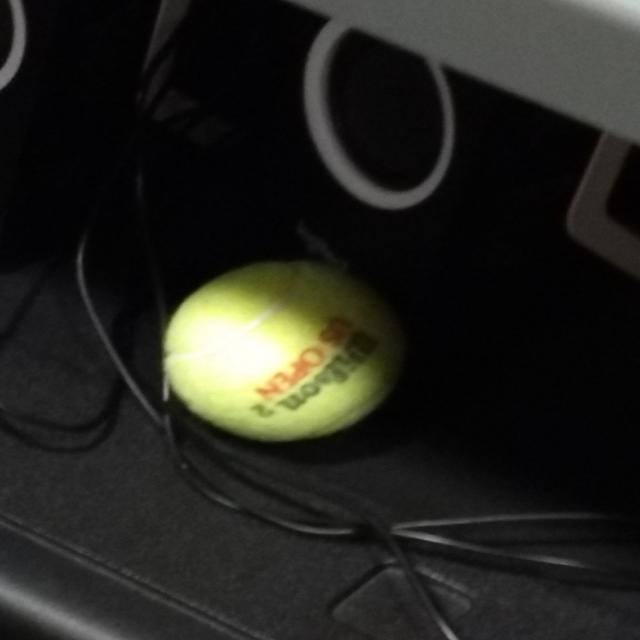Tennis-Ball: (162, 253, 422, 456)
